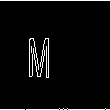M_N: (43, 30, 67, 80)
